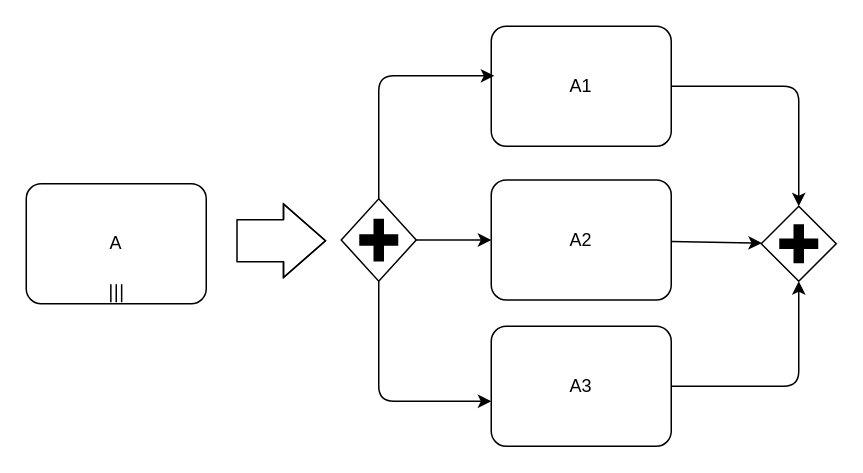
The diagram is 863 pixels wide and 473 high, and some of its shapes have lost their labels. The centre of each missing label's shape, as x and y in pixels:
A_Merge: the point at 798,243
A_Split: the point at 378,239
